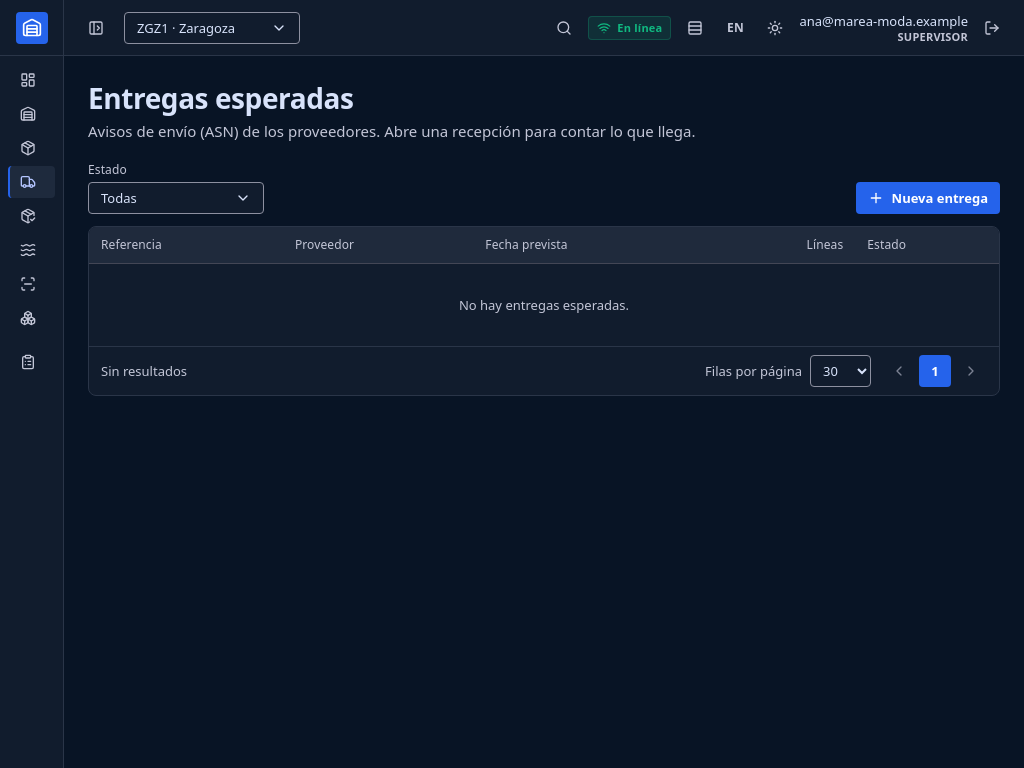
Scenario: registering an expected delivery › checks the expiry date and the units before asking
Click the button "Nueva entrega".
click(928, 198)  # box [856,182,1000,214]
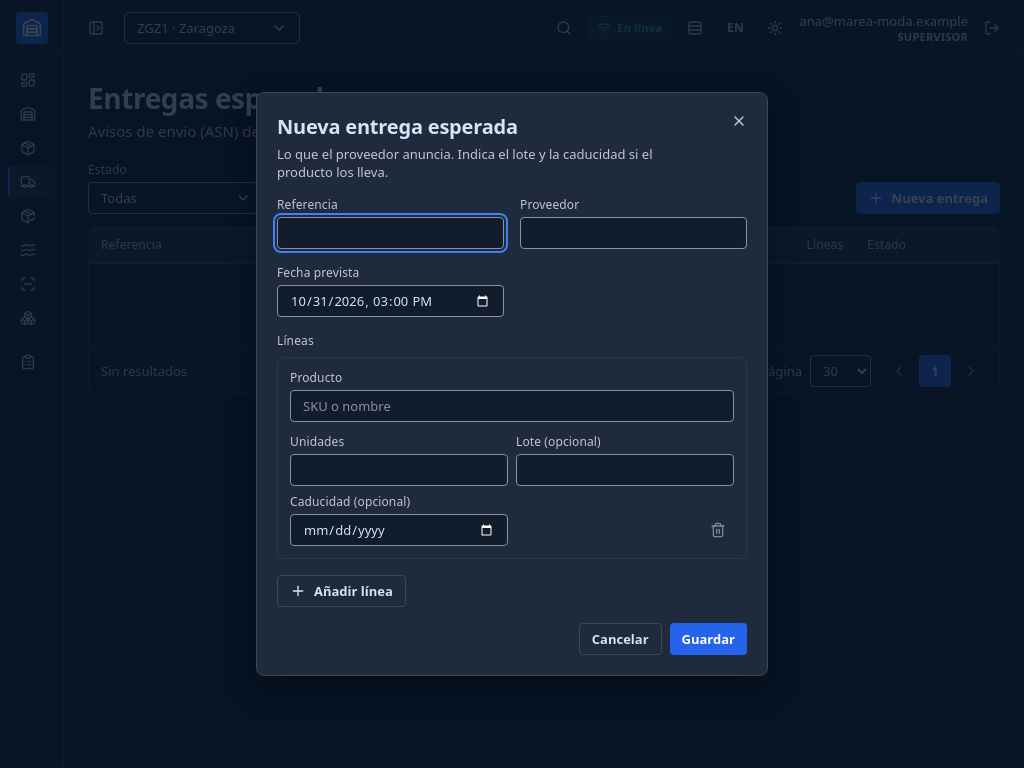
Type "0" into the field labelled "Unidades".
click(399, 470); type("0")  # box [290,454,508,486]
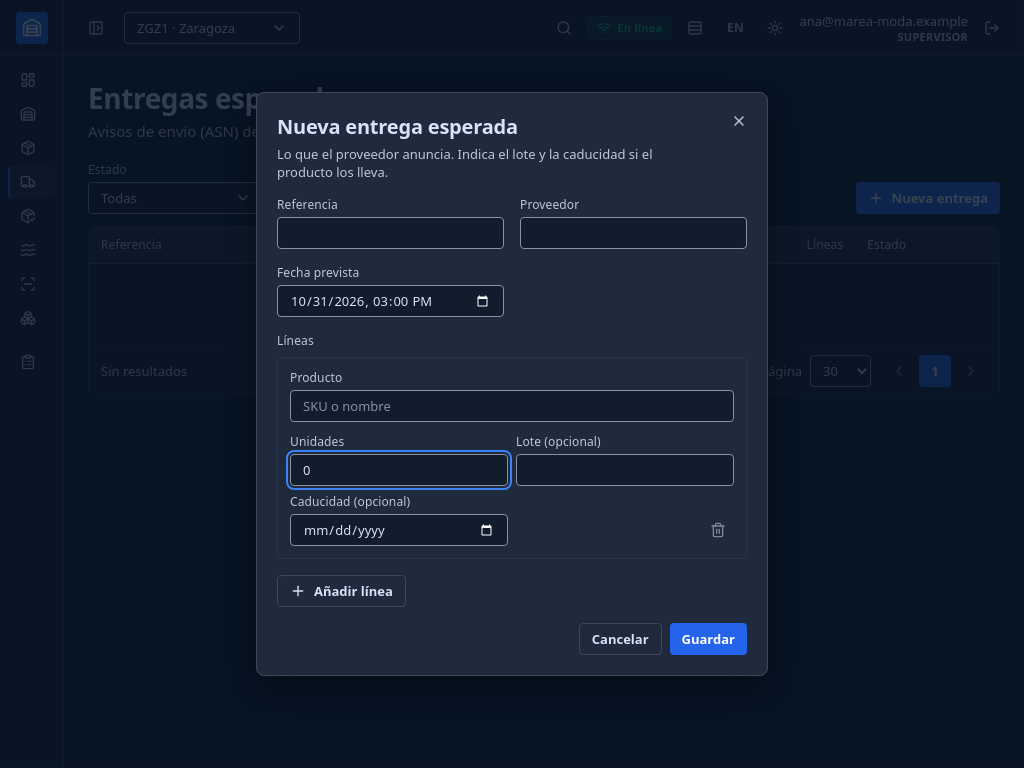
Click the button "Guardar".
click(708, 639)  # box [670,623,747,655]
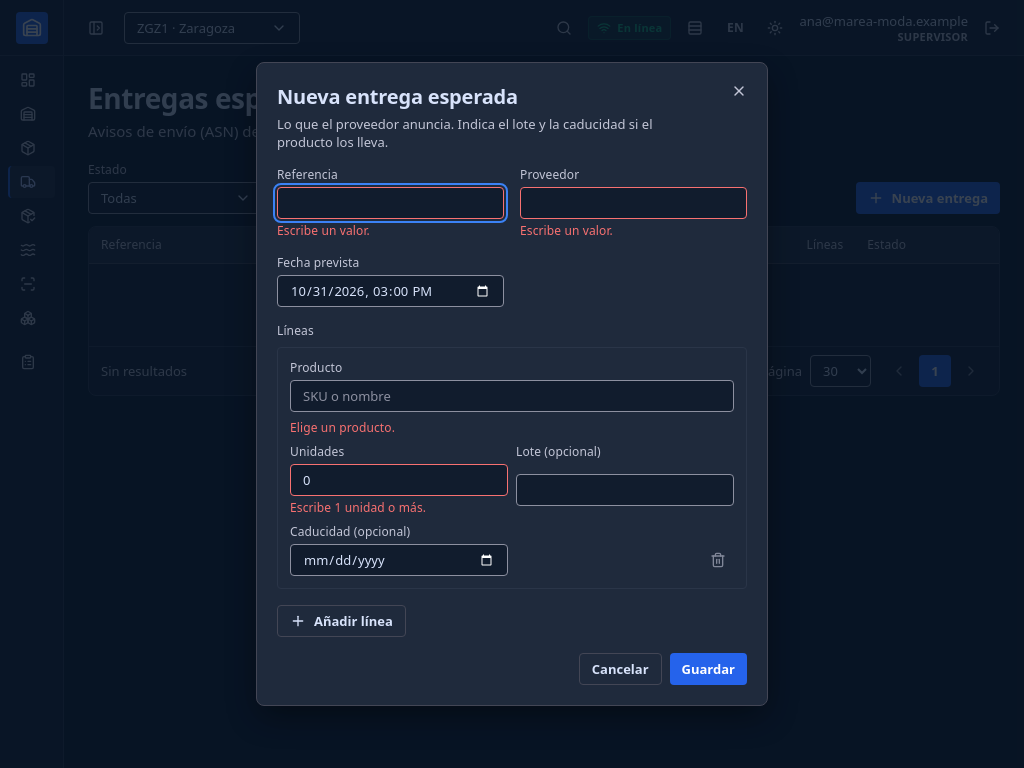
expect the 1st text "Escribe un valor." is shown: met, box [277,222,370,239]
expect the text "Escribe 1 unidad o más." is shown: met, box [290,499,426,516]
